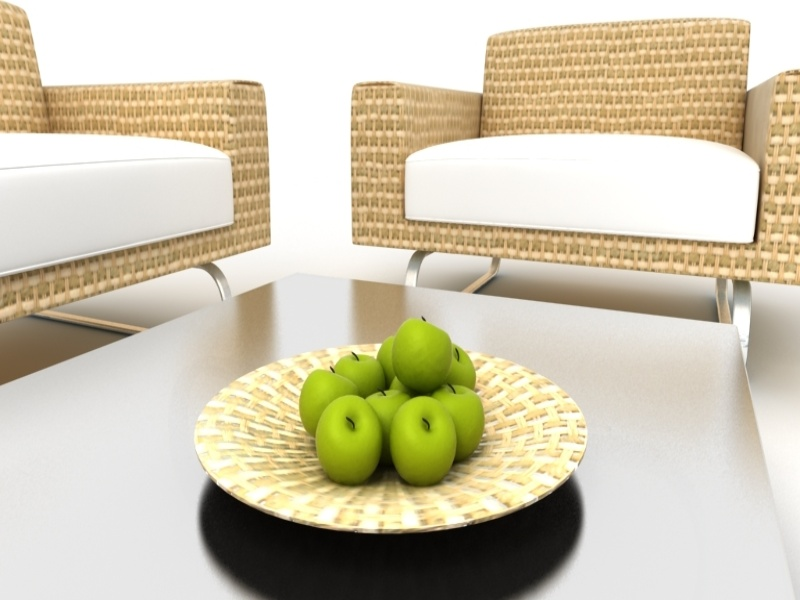apple: (390, 393, 464, 486), (310, 390, 383, 483), (383, 308, 458, 390), (297, 345, 379, 395)
chair: (344, 10, 798, 312)
